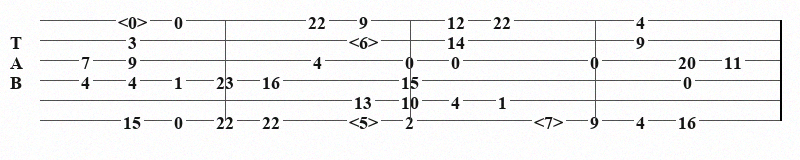0: (174, 12, 187, 28), (174, 112, 187, 128), (405, 52, 418, 68), (451, 52, 464, 68), (590, 52, 603, 68), (683, 72, 696, 88)
1: (174, 72, 187, 88), (498, 92, 511, 108)
10: (401, 92, 423, 108)
11: (724, 52, 746, 68)
12: (447, 12, 469, 28)
13: (354, 92, 376, 108)
14: (447, 32, 469, 48)
15: (123, 112, 145, 128), (401, 72, 423, 88)
16: (262, 72, 284, 88), (678, 112, 700, 128)
2: (405, 112, 418, 128)
20: (678, 52, 700, 68)
22: (216, 112, 238, 128), (262, 112, 284, 128), (308, 12, 330, 28), (493, 12, 515, 28)
23: (216, 72, 238, 88)
3: (128, 32, 141, 48)
4: (81, 72, 94, 88), (128, 72, 141, 88), (313, 52, 326, 68), (451, 92, 464, 108), (636, 12, 649, 28), (636, 112, 649, 128)
7: (81, 52, 94, 68)
9: (128, 52, 141, 68), (359, 12, 372, 28), (590, 112, 603, 128), (636, 32, 649, 48)
harmonic: (118, 12, 151, 28), (349, 32, 382, 48), (349, 112, 382, 128), (534, 112, 567, 128)
